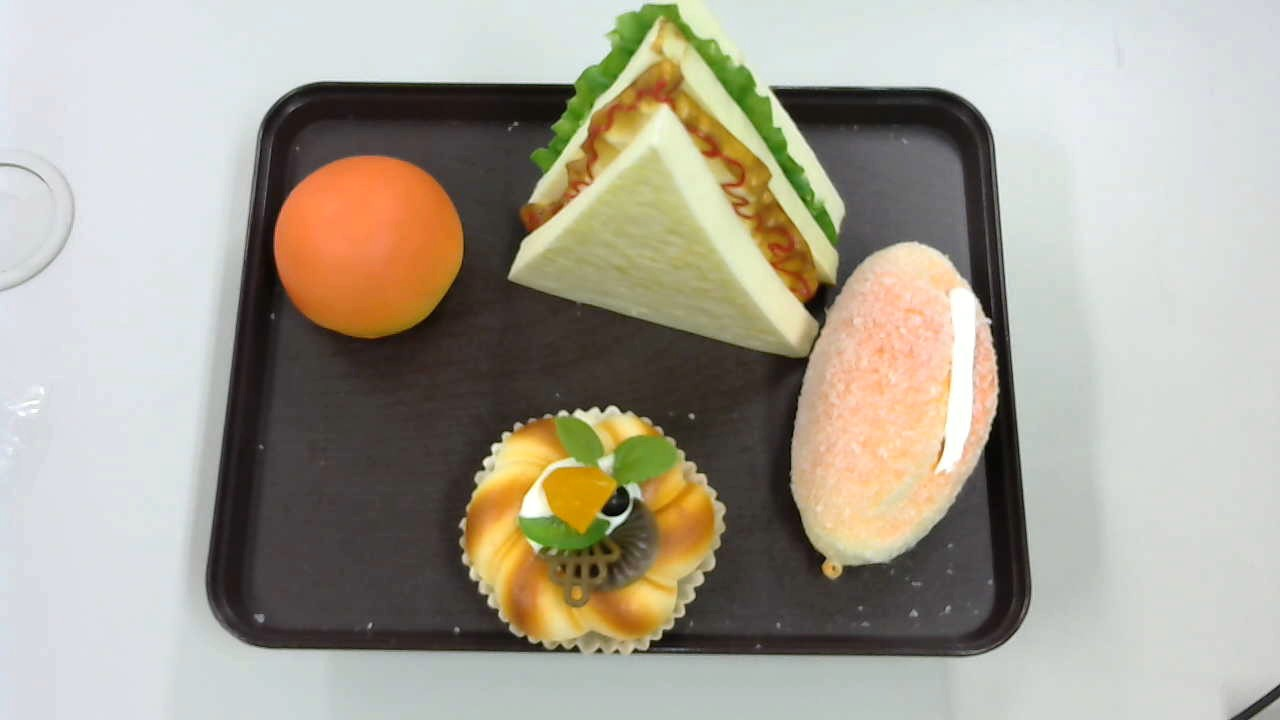bun: (273, 154, 464, 339)
coconut: (789, 242, 1000, 582)
fruit tart: (458, 406, 727, 656)
sandwich: (505, 4, 848, 360)
